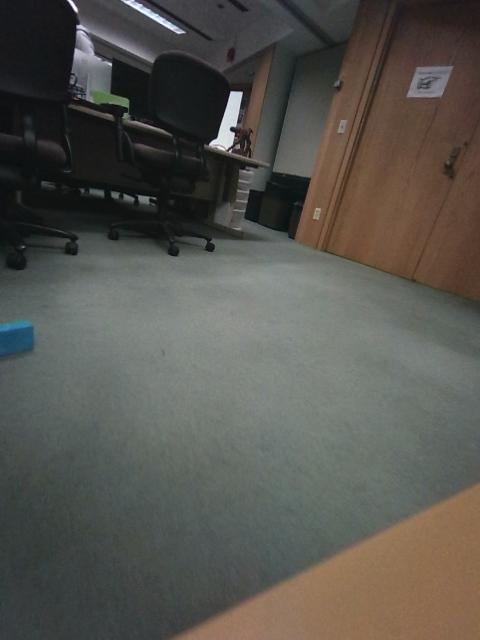block: (385, 295, 419, 322)
